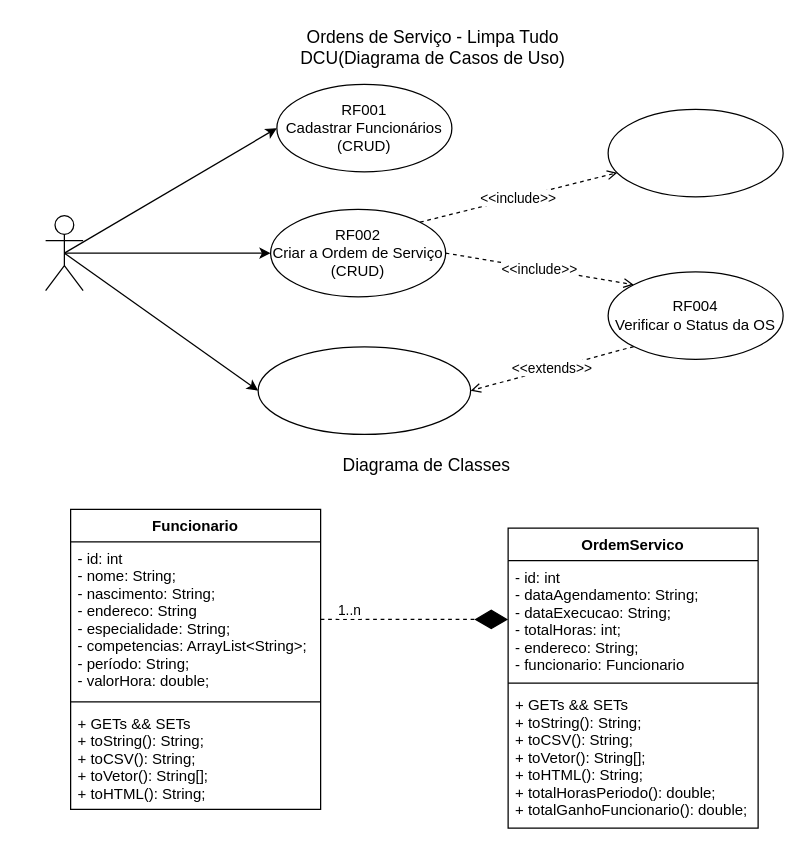
Image size: 805x853. Some labels were removed from this diagram. The centre of each missing label's shape, as x and y in pixels:
"RF003 Calcular o Ganho do Funcionário." belongs at (x=695, y=152).
"RF005 Gerar relatório por funcionário e período (mês)" belongs at (x=364, y=390).
"Secretário(a)" belongs at (x=63, y=252).
